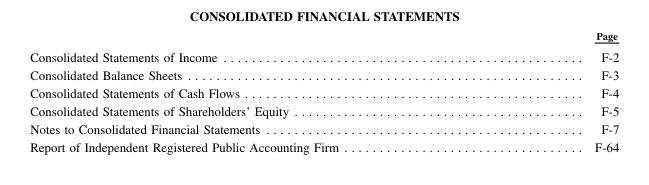table: (29, 28, 618, 153)
table column: (29, 28, 466, 153), (466, 28, 618, 153)
table column header: (29, 28, 618, 44)
table row: (29, 44, 618, 65), (29, 65, 618, 83), (29, 83, 618, 101), (29, 101, 618, 119), (29, 119, 618, 137), (29, 28, 618, 44), (29, 137, 618, 153)
